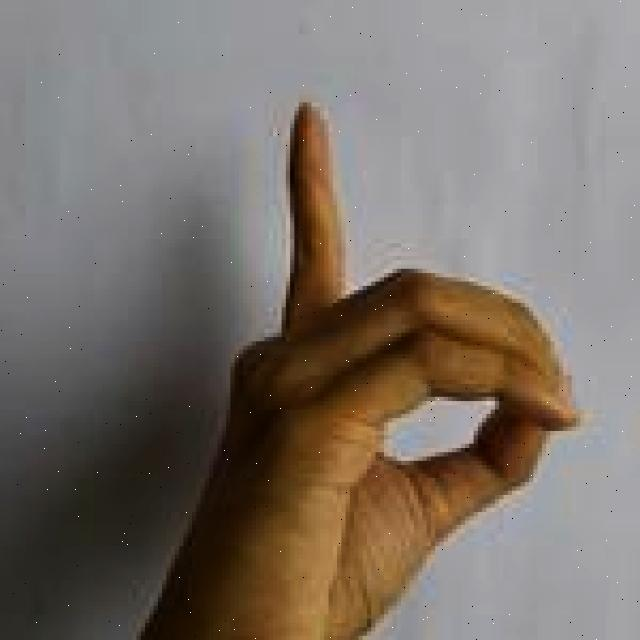D: (132, 100, 588, 640)
